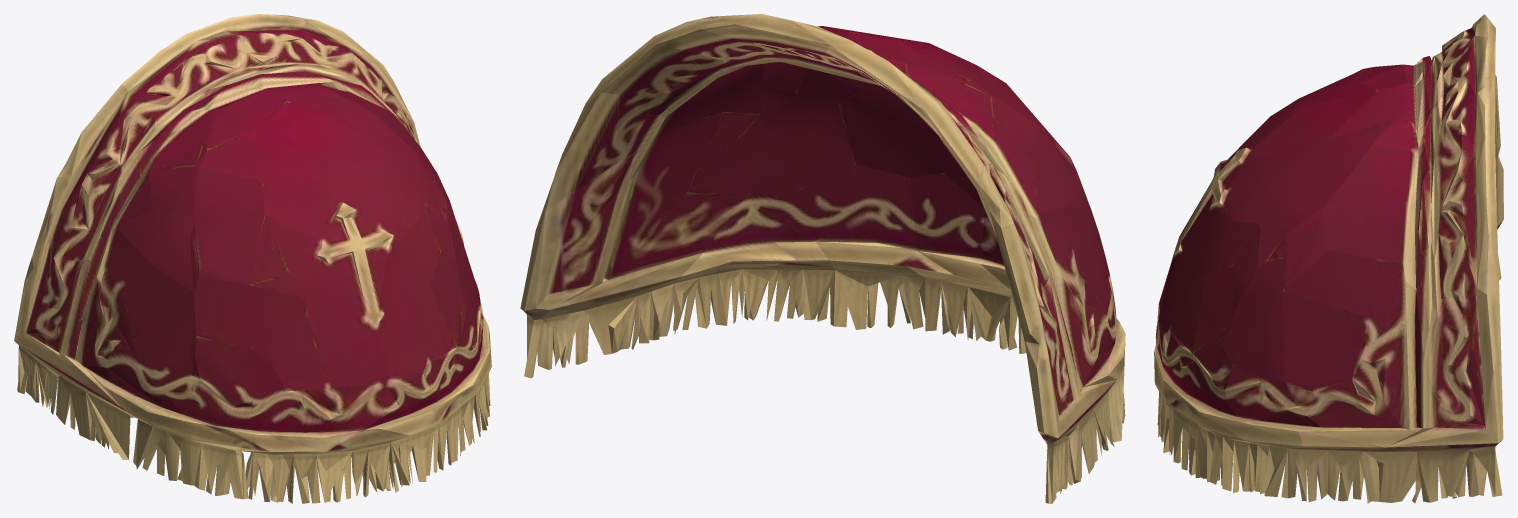
Rendered from chierico-spalle.glb.
The picture shows the model from 3 angles, left to right: view 1: azimuth 30°, elevation 25°; view 2: azimuth 150°, elevation 25°; view 3: azimuth 270°, elevation 25°; orthographic projection. The views are drawn at different scales.
Parts seen in each view (by area): view 1: Mesh_0; view 2: Mesh_0; view 3: Mesh_0.
Part boxes in pixels (x1,y1,x2,y2): Mesh_0: [14, 14, 491, 503]; Mesh_0: [520, 14, 1125, 503]; Mesh_0: [1154, 14, 1503, 503].
Size of the model in its own units: 1.9 by 1.57 by 1.26.
1 material, 1 textured.
